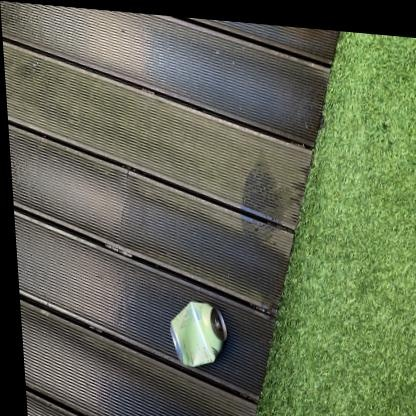trash: (170, 302, 226, 366)
